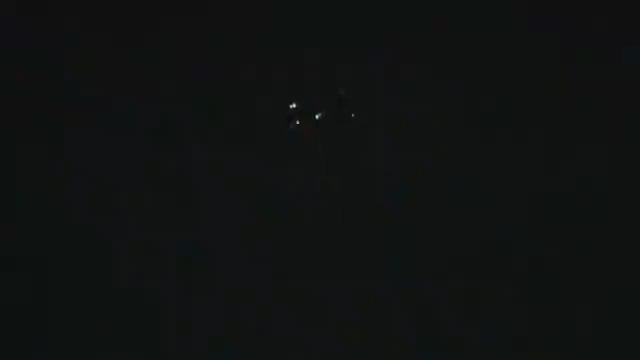Plane: (272, 93, 318, 135)
